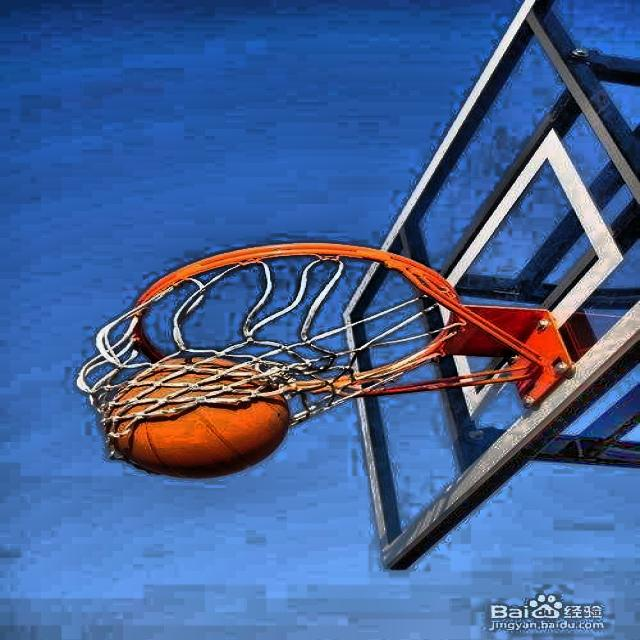rim: (76, 242, 458, 399)
